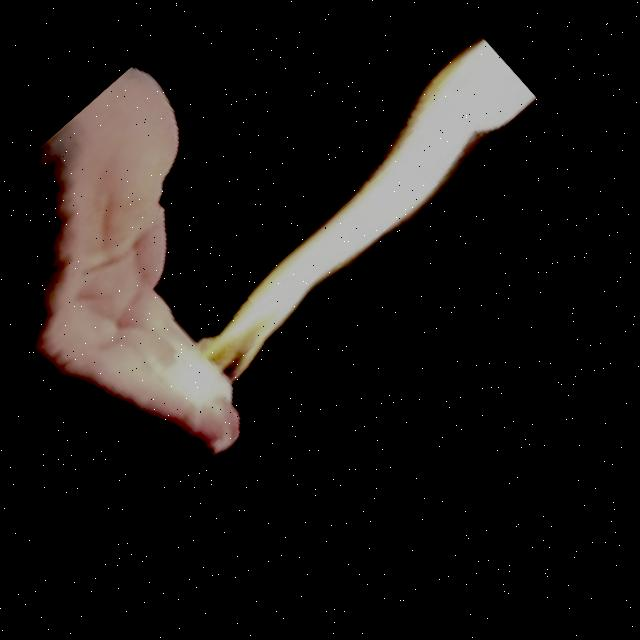Fire: (110, 14, 554, 437)
